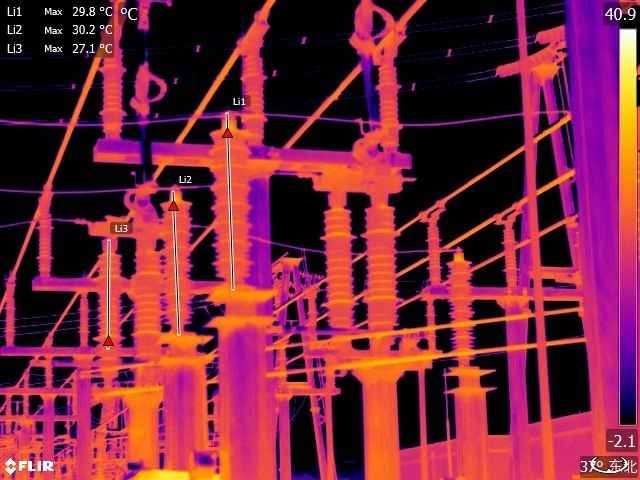insulator: (495, 45, 566, 80), (533, 19, 565, 49)
post insulator: (203, 119, 259, 289), (159, 185, 199, 340), (318, 198, 356, 331), (128, 242, 164, 380), (365, 201, 397, 340), (86, 246, 126, 354), (445, 247, 479, 374), (237, 45, 271, 144), (99, 41, 129, 141), (372, 65, 404, 154), (32, 198, 58, 277), (498, 229, 521, 289), (1, 283, 18, 347), (426, 217, 443, 274), (77, 293, 93, 350)
